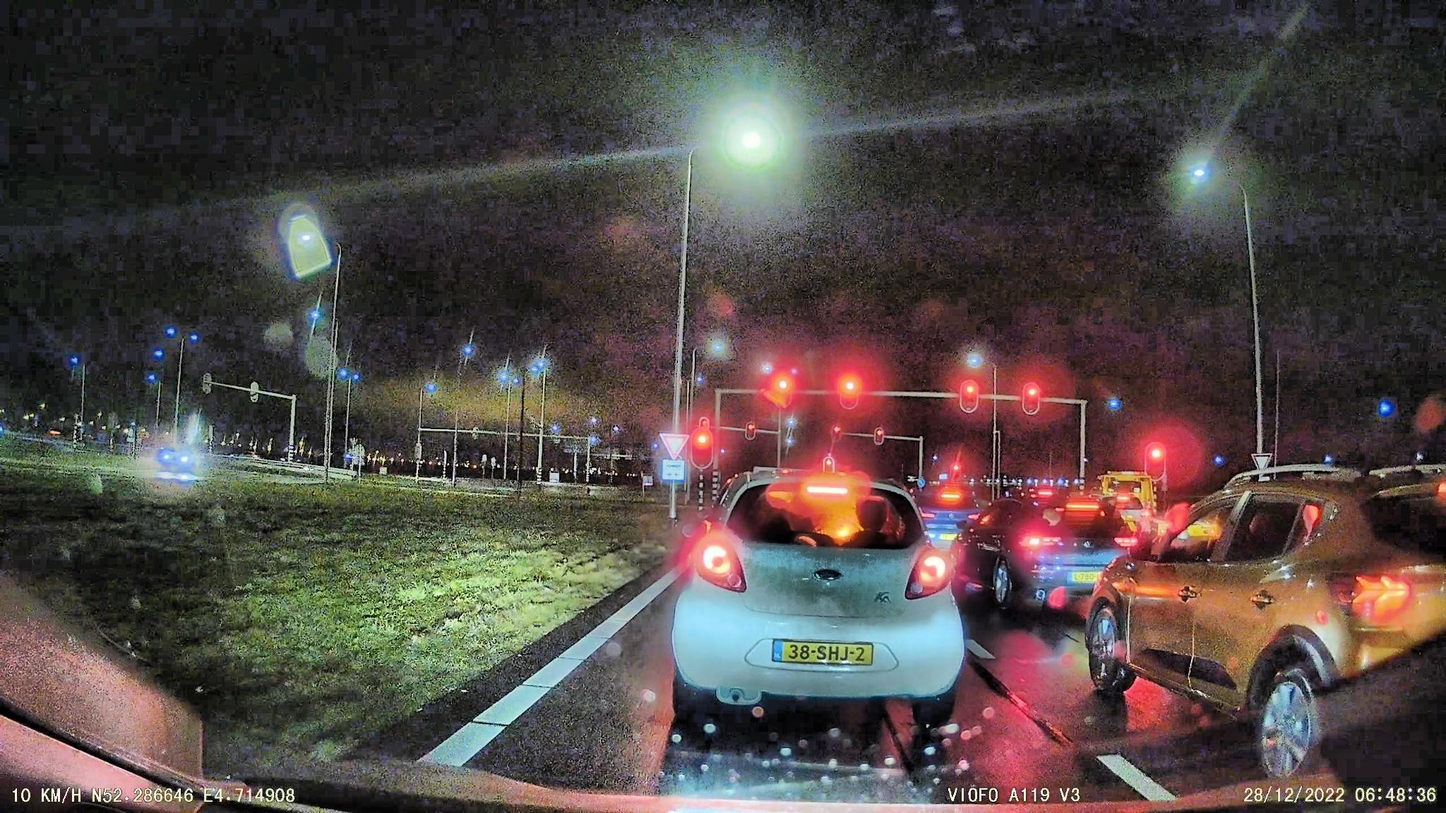Roads: (408, 567, 1096, 804)
